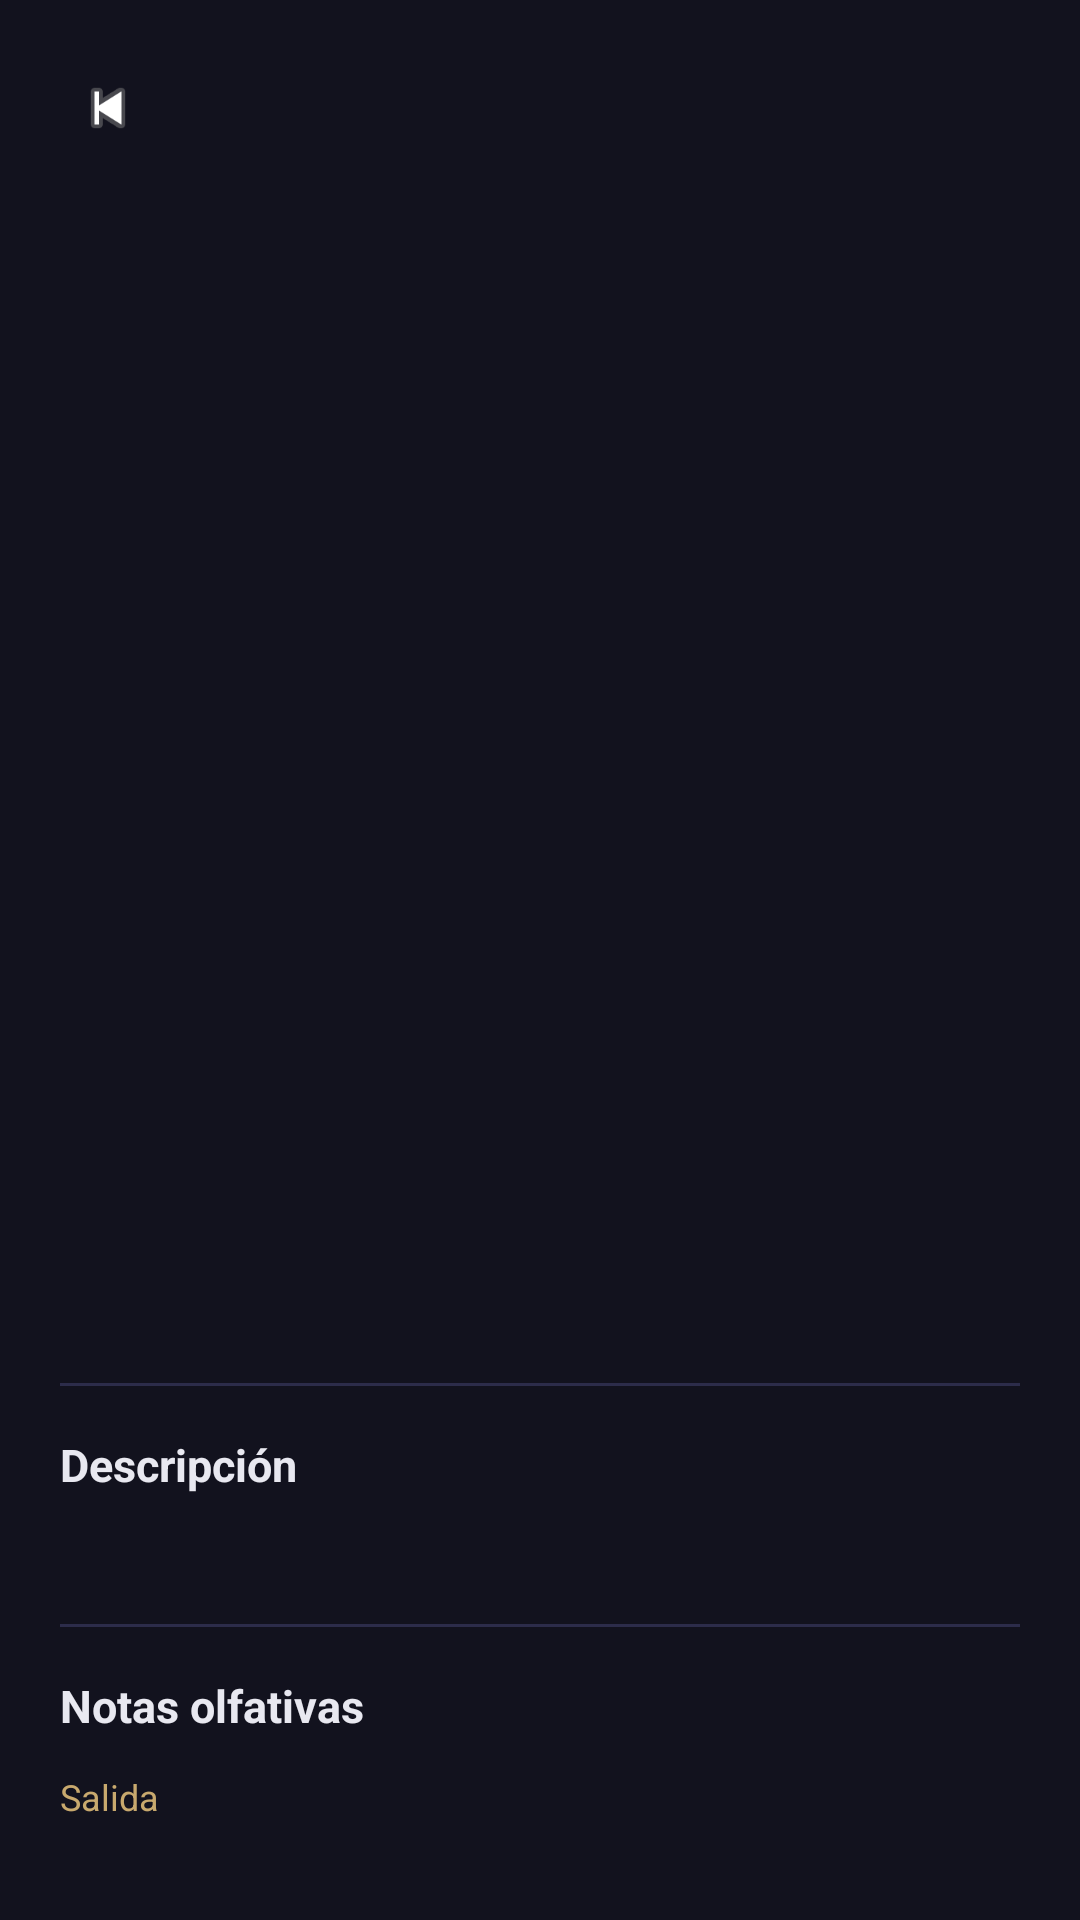

Screen size 1080px x 1920px. Icon name, then its box in pixels as BBox(x1, y1, x2, y2):
previous: BBox(91, 88, 125, 128)
